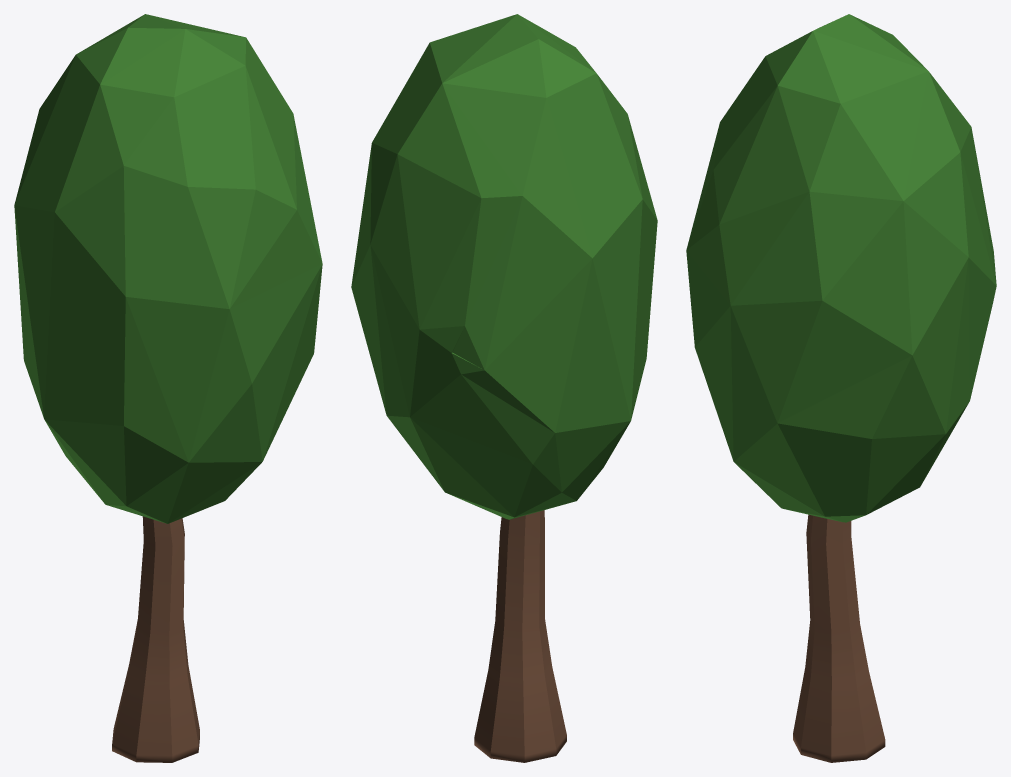
Rendered from SM_Tree_Small.fbx.
The picture shows the model from 3 angles, left to right: view 1: azimuth 30°, elevation 25°; view 2: azimuth 150°, elevation 25°; view 3: azimuth 270°, elevation 25°; orthographic projection.
Parts seen in each view (by area): view 1: Tree_Small; view 2: Tree_Small; view 3: Tree_Small.
Part boxes in pixels (<box>): Tree_Small: <box>14,14,322,762</box>; Tree_Small: <box>351,14,657,762</box>; Tree_Small: <box>686,14,996,762</box>.
Bounding box in the file's own units: 214 × 576 × 225.
